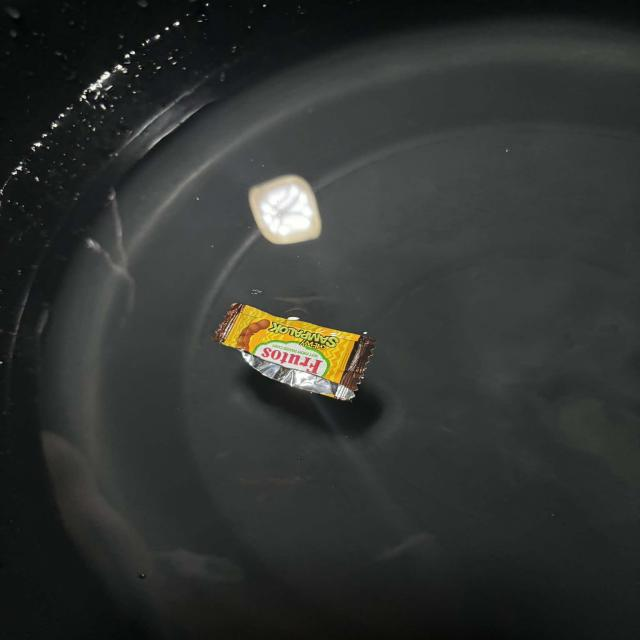Plastic Wrapper: (224, 300, 458, 453)
